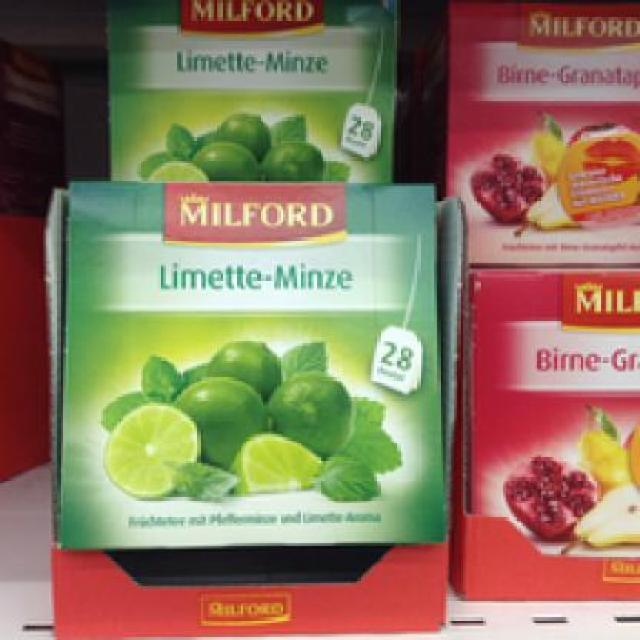Tea: (49, 176, 448, 550), (102, 0, 392, 180), (437, 0, 634, 263), (460, 263, 637, 552)
